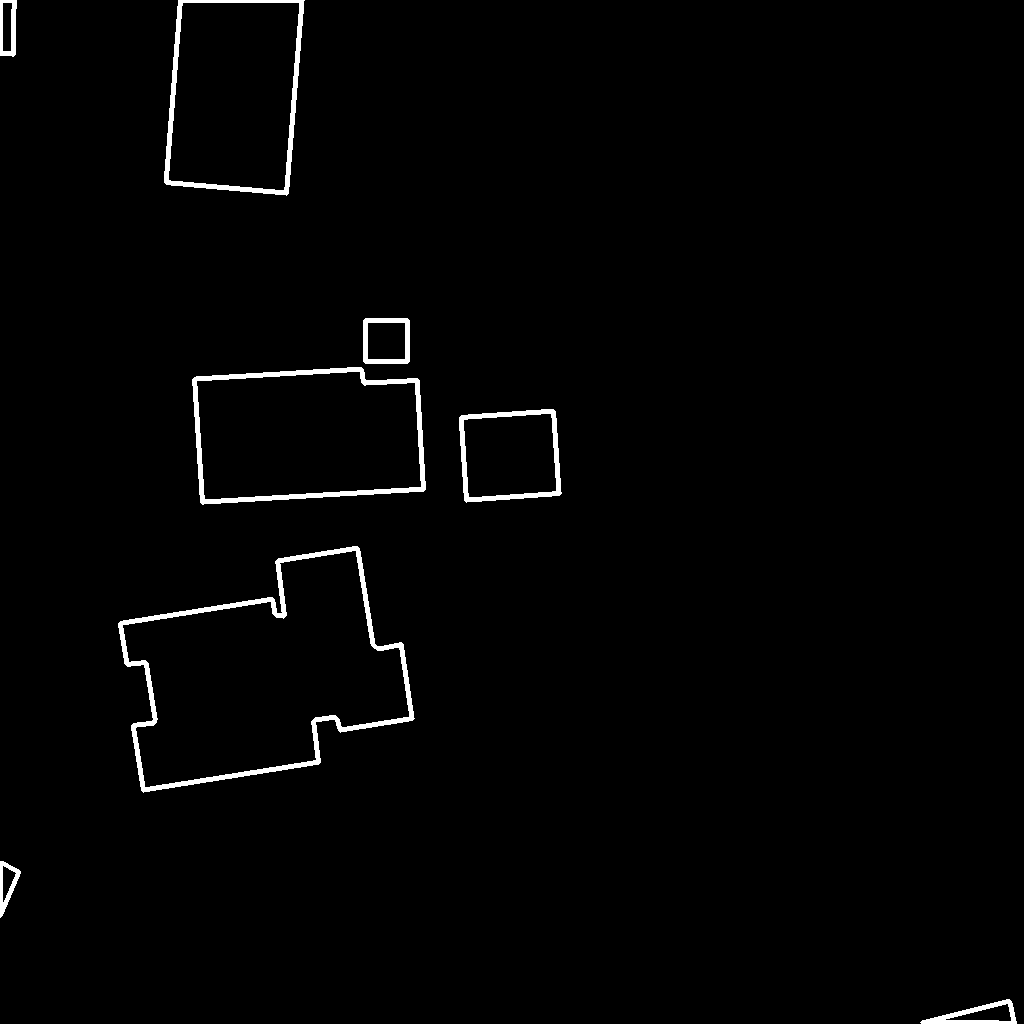building: (120, 548, 413, 791), (194, 369, 425, 503), (166, 0, 303, 194), (461, 411, 560, 501), (920, 1001, 1016, 1024), (365, 320, 409, 362), (0, 863, 20, 918), (0, 0, 15, 55)
